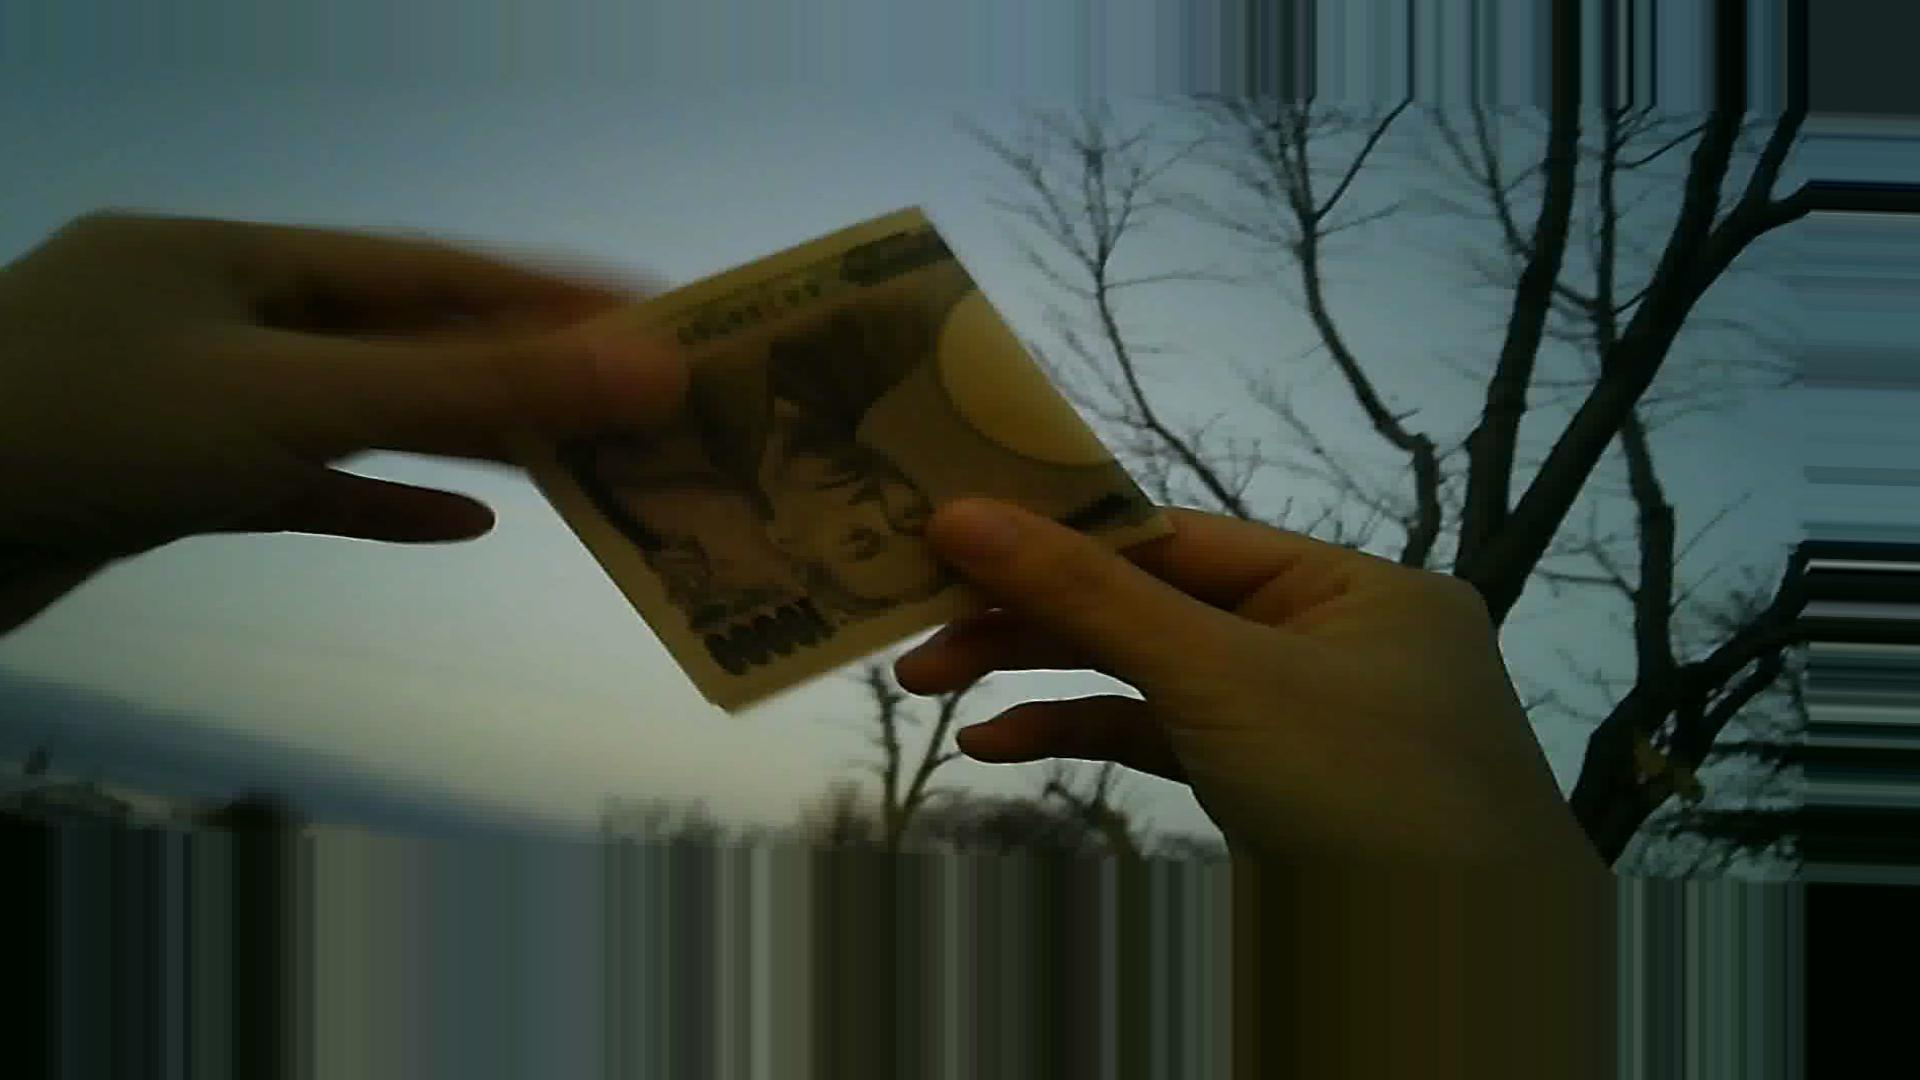10,000 Yen: (524, 222, 1150, 704)
